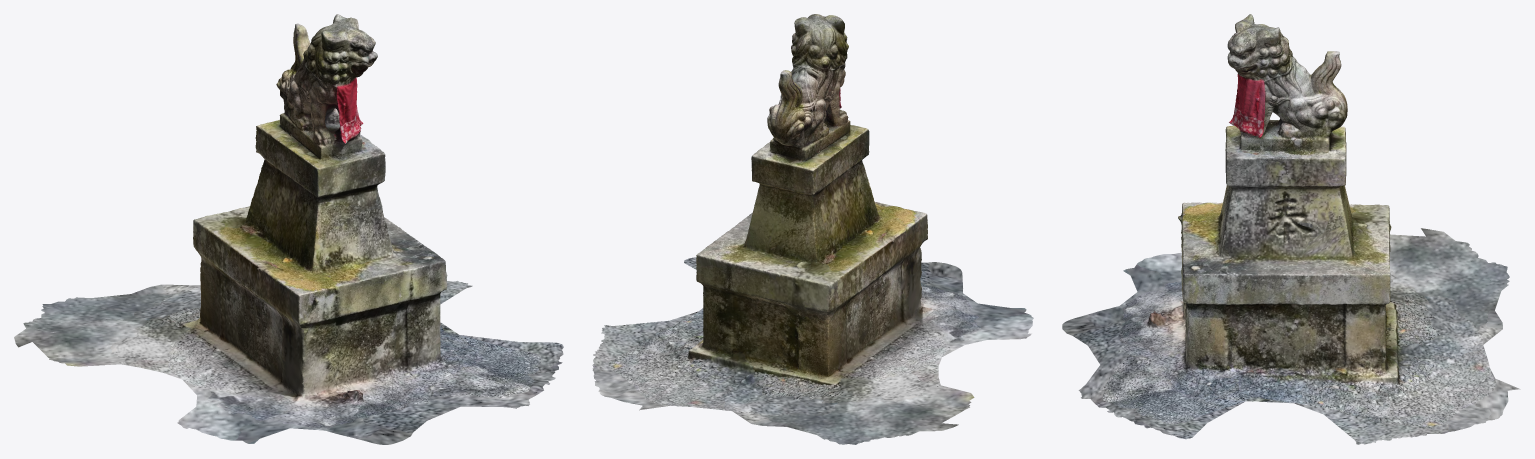
The model's file is lion-temple-kurama.glb.
3 views of the same model, side by side, from view 1: azimuth 30°, elevation 25°; view 2: azimuth 150°, elevation 25°; view 3: azimuth 270°, elevation 25° (orthographic). The views are drawn at different scales.
Parts seen in each view (by area): view 1: mesh; view 2: mesh; view 3: mesh.
Boxes of the visible parts, x1,y1,x2,y2 form: mesh: (14,14,563,444); mesh: (592,14,1033,444); mesh: (1062,14,1520,444).
Size of the model in its own units: 2.31 by 1.83 by 2.24.
1 material, 1 textured.
